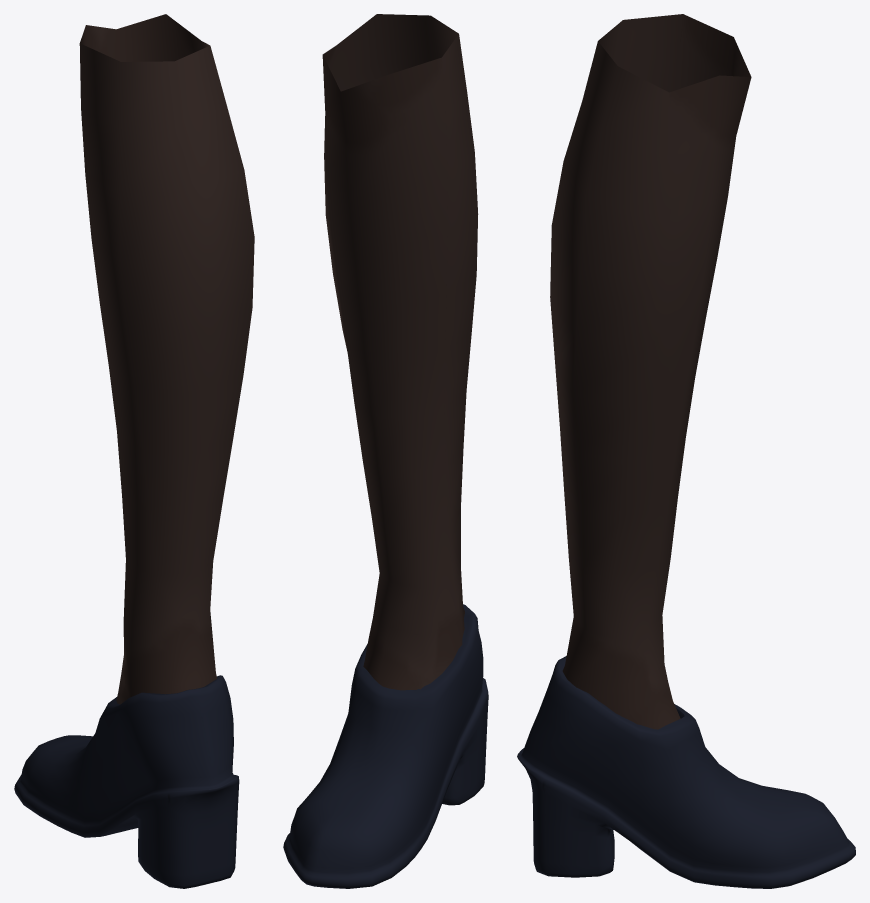
File: PieDer.obj
3 renders of one model, left to right at view 1: azimuth 30°, elevation 25°; view 2: azimuth 150°, elevation 25°; view 3: azimuth 270°, elevation 25°, orthographic. The views are drawn at different scales.
Parts seen in each view (by area): view 1: body_lp.003; view 2: body_lp.003; view 3: body_lp.003.
Boxes of the visible parts, x1=… form: body_lp.003: x1=14, y1=14, x2=254, y2=888; body_lp.003: x1=283, y1=14, x2=488, y2=888; body_lp.003: x1=517, y1=14, x2=855, y2=888.
Size of the model in its own units: 0.2319 by 1.33 by 0.4974.
Materials: 1 (1 with a texture image).
